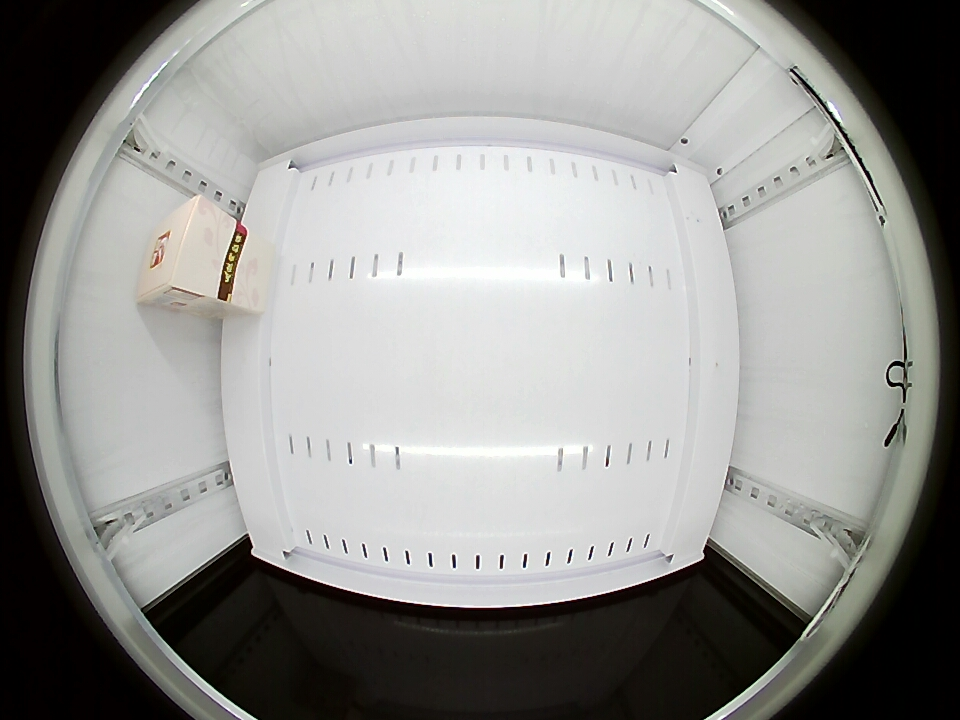rousongbing: (136, 194, 234, 311)
